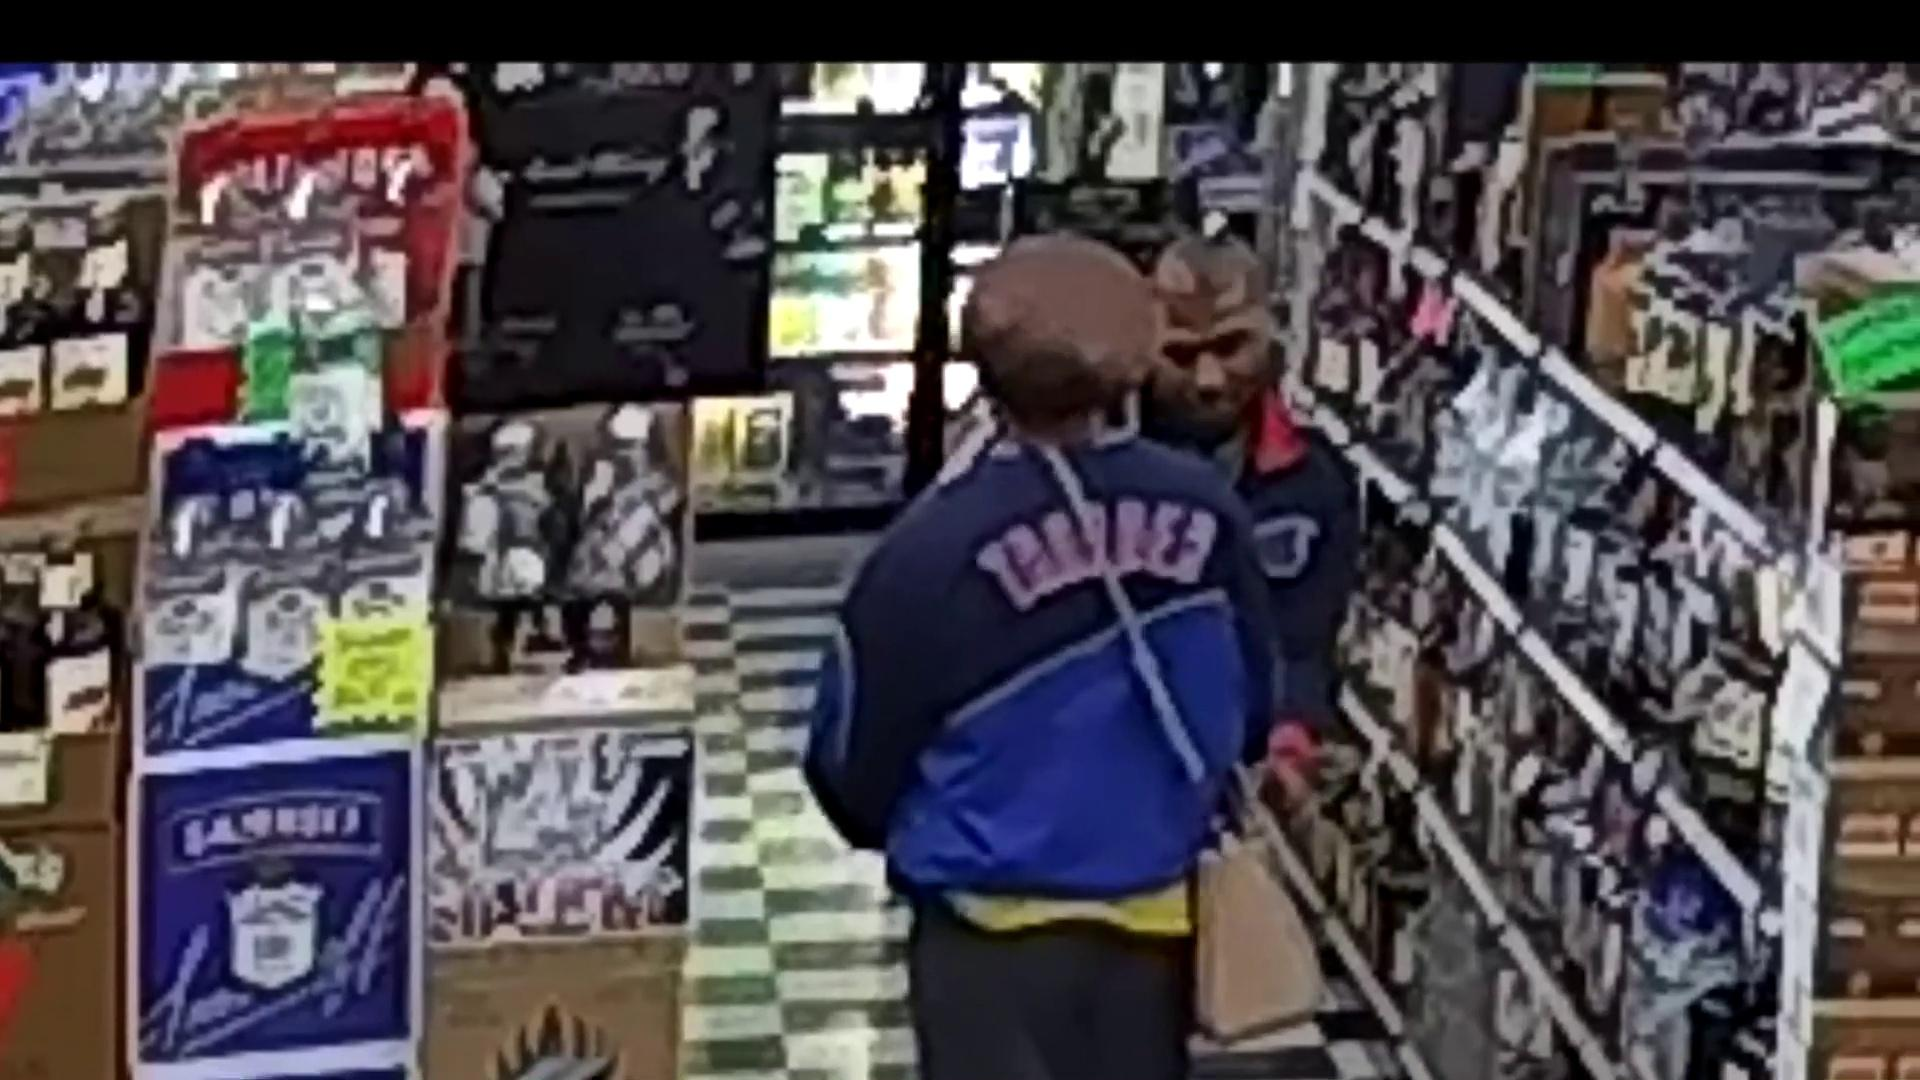3: (818, 220, 1262, 1080), (1160, 200, 1394, 559)
persone: (1167, 845, 1374, 1079)
